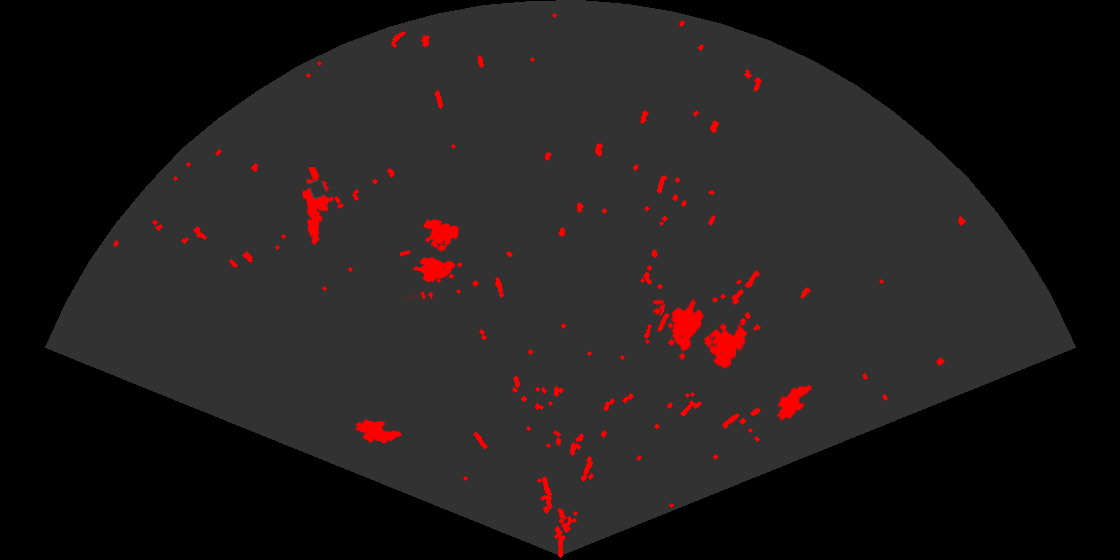AUV: (775, 383, 814, 422), (354, 418, 404, 445)
cage: (653, 298, 750, 371), (400, 218, 464, 299)
frogman: (300, 167, 335, 246)
